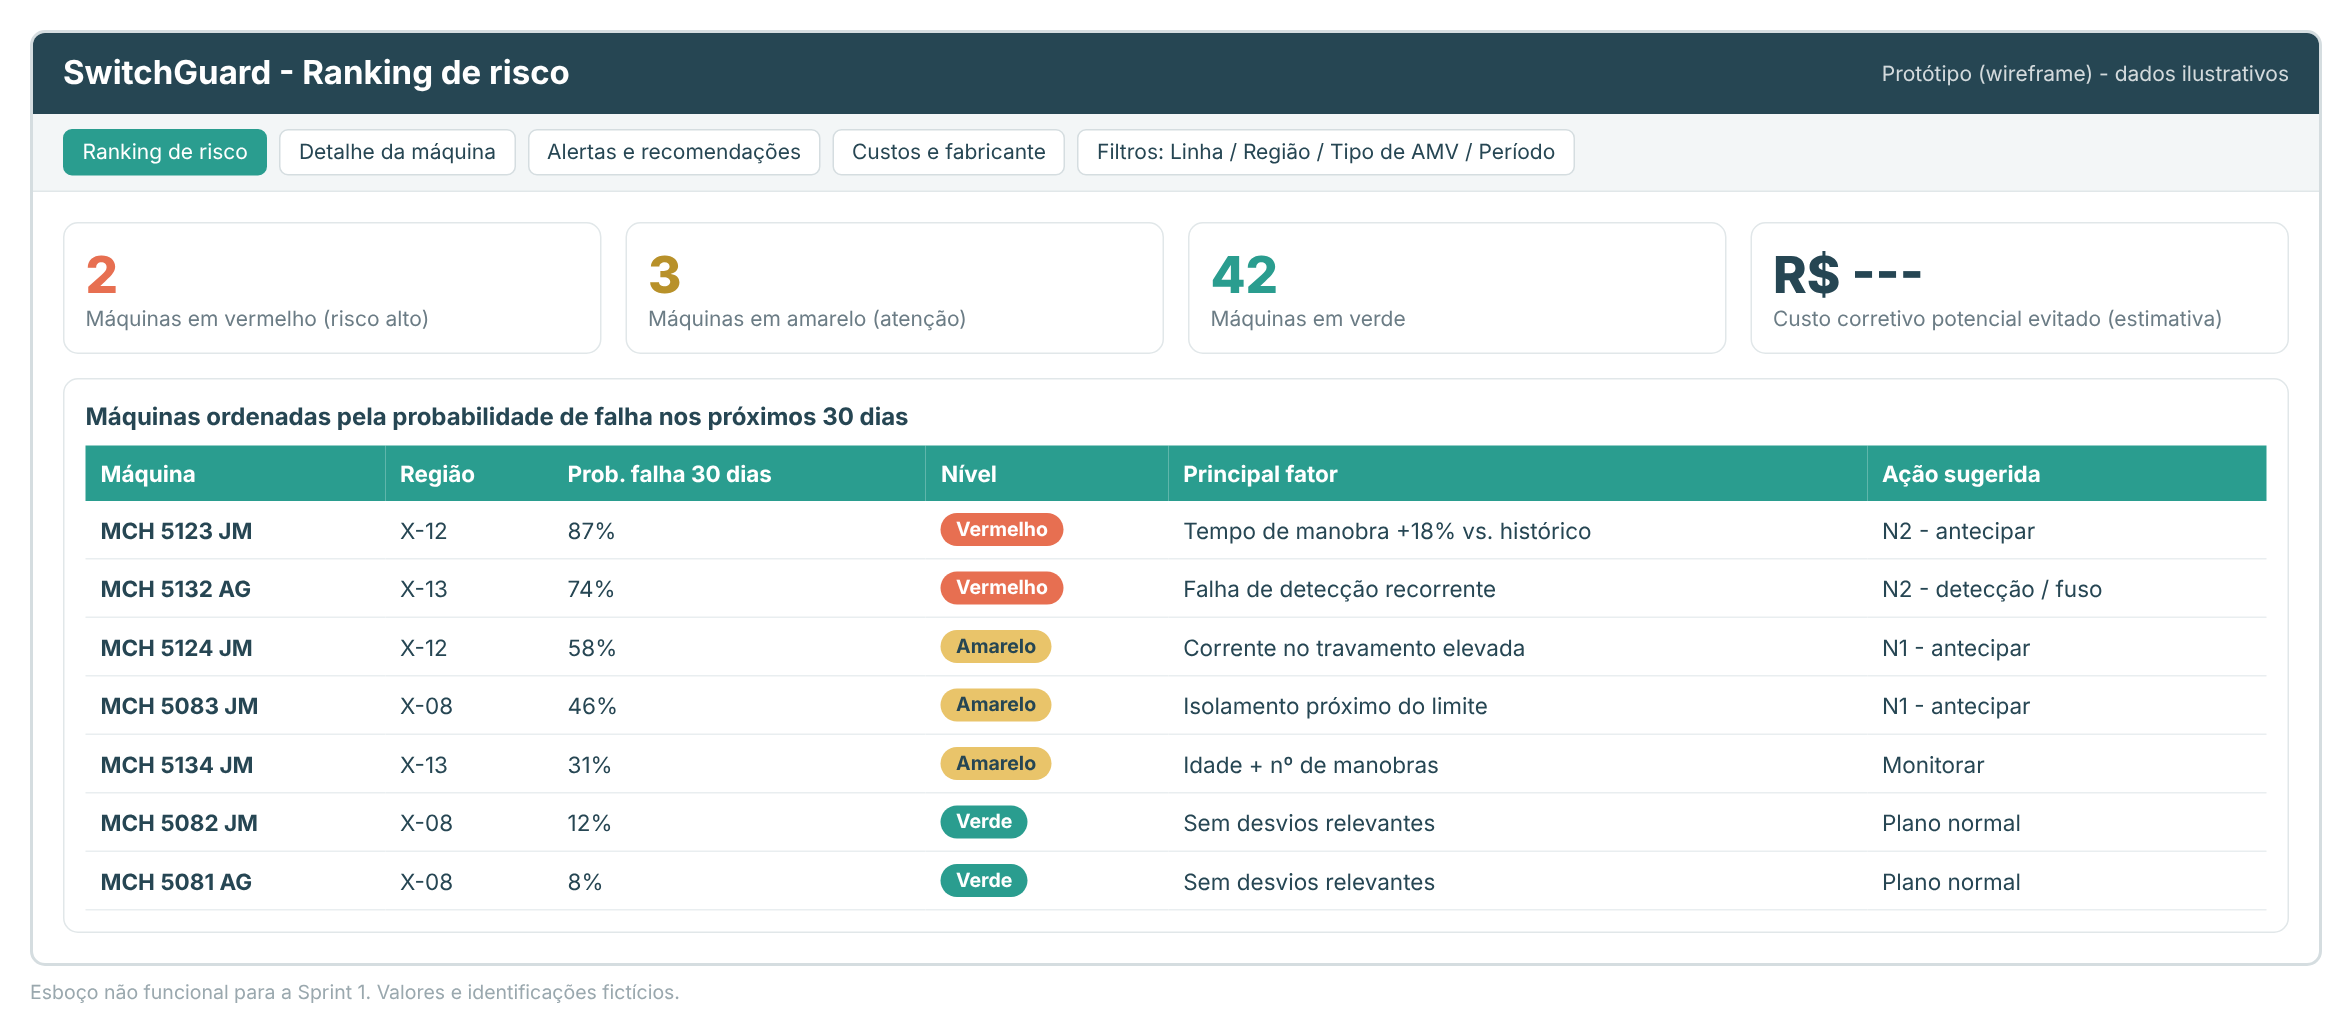

This screenshot's page, from the dashboard's own definition file:
{"tool":"powerbi","page":{"name":"Ranking de risco","canvas":[1280,720],"ordinal":0},"visuals":[{"type":"textbox","box":[0,0,1280,64],"z":1000},{"type":"textbox","box":[880,16,390,36],"z":2000},{"type":"slicer","fields":{"Values":["maquinas.regiao"]},"box":[20,76,220,62],"z":3000},{"type":"slicer","fields":{"Values":["maquinas.tipo_amv"]},"box":[250,76,220,62],"z":4000},{"type":"slicer","fields":{"Values":["maquinas.nivel"]},"box":[480,76,220,62],"z":5000},{"type":"textbox","box":[712,76,548,62],"z":6000},{"type":"card","fields":{"Values":["maquinas.Qtd Vermelho"]},"box":[20,150,297,96],"z":7000},{"type":"card","fields":{"Values":["maquinas.Qtd Amarelo"]},"box":[334,150,297,96],"z":8000},{"type":"card","fields":{"Values":["maquinas.Qtd Verde"]},"box":[648,150,297,96],"z":9000},{"type":"card","fields":{"Values":["maquinas.Custo corretivo evitado"]},"box":[962,150,297,96],"z":10000},{"type":"tableEx","title":"Máquinas ordenadas pela probabilidade de falha nos próximos 30 dias","fields":{"Values":["maquinas.maquina","maquinas.regiao","maquinas.prob","maquinas.nivel","maquinas.principal_fator","maquinas.acao_sugerida"]},"box":[20.1,284.6,1240.2,420.1],"z":11000}]}

Visuals, with their boxes on the page's 1280x720 design canvas (x1, y1, x2, y2). These are canvas units, not pixel positions in the 2352x1033 screenshot, which may show the page scaled, cropped or inside an application window:
textbox: (x1=0, y1=0, x2=1280, y2=64)
textbox: (x1=880, y1=16, x2=1270, y2=52)
slicer - maquinas.regiao: (x1=20, y1=76, x2=240, y2=138)
slicer - maquinas.tipo_amv: (x1=250, y1=76, x2=470, y2=138)
slicer - maquinas.nivel: (x1=480, y1=76, x2=700, y2=138)
textbox: (x1=712, y1=76, x2=1260, y2=138)
card - maquinas.Qtd Vermelho: (x1=20, y1=150, x2=317, y2=246)
card - maquinas.Qtd Amarelo: (x1=334, y1=150, x2=631, y2=246)
card - maquinas.Qtd Verde: (x1=648, y1=150, x2=945, y2=246)
card - maquinas.Custo corretivo evitado: (x1=962, y1=150, x2=1259, y2=246)
"Máquinas ordenadas pela probabilidade de falha nos próximos 30 dias" tableEx: (x1=20, y1=285, x2=1260, y2=705)
